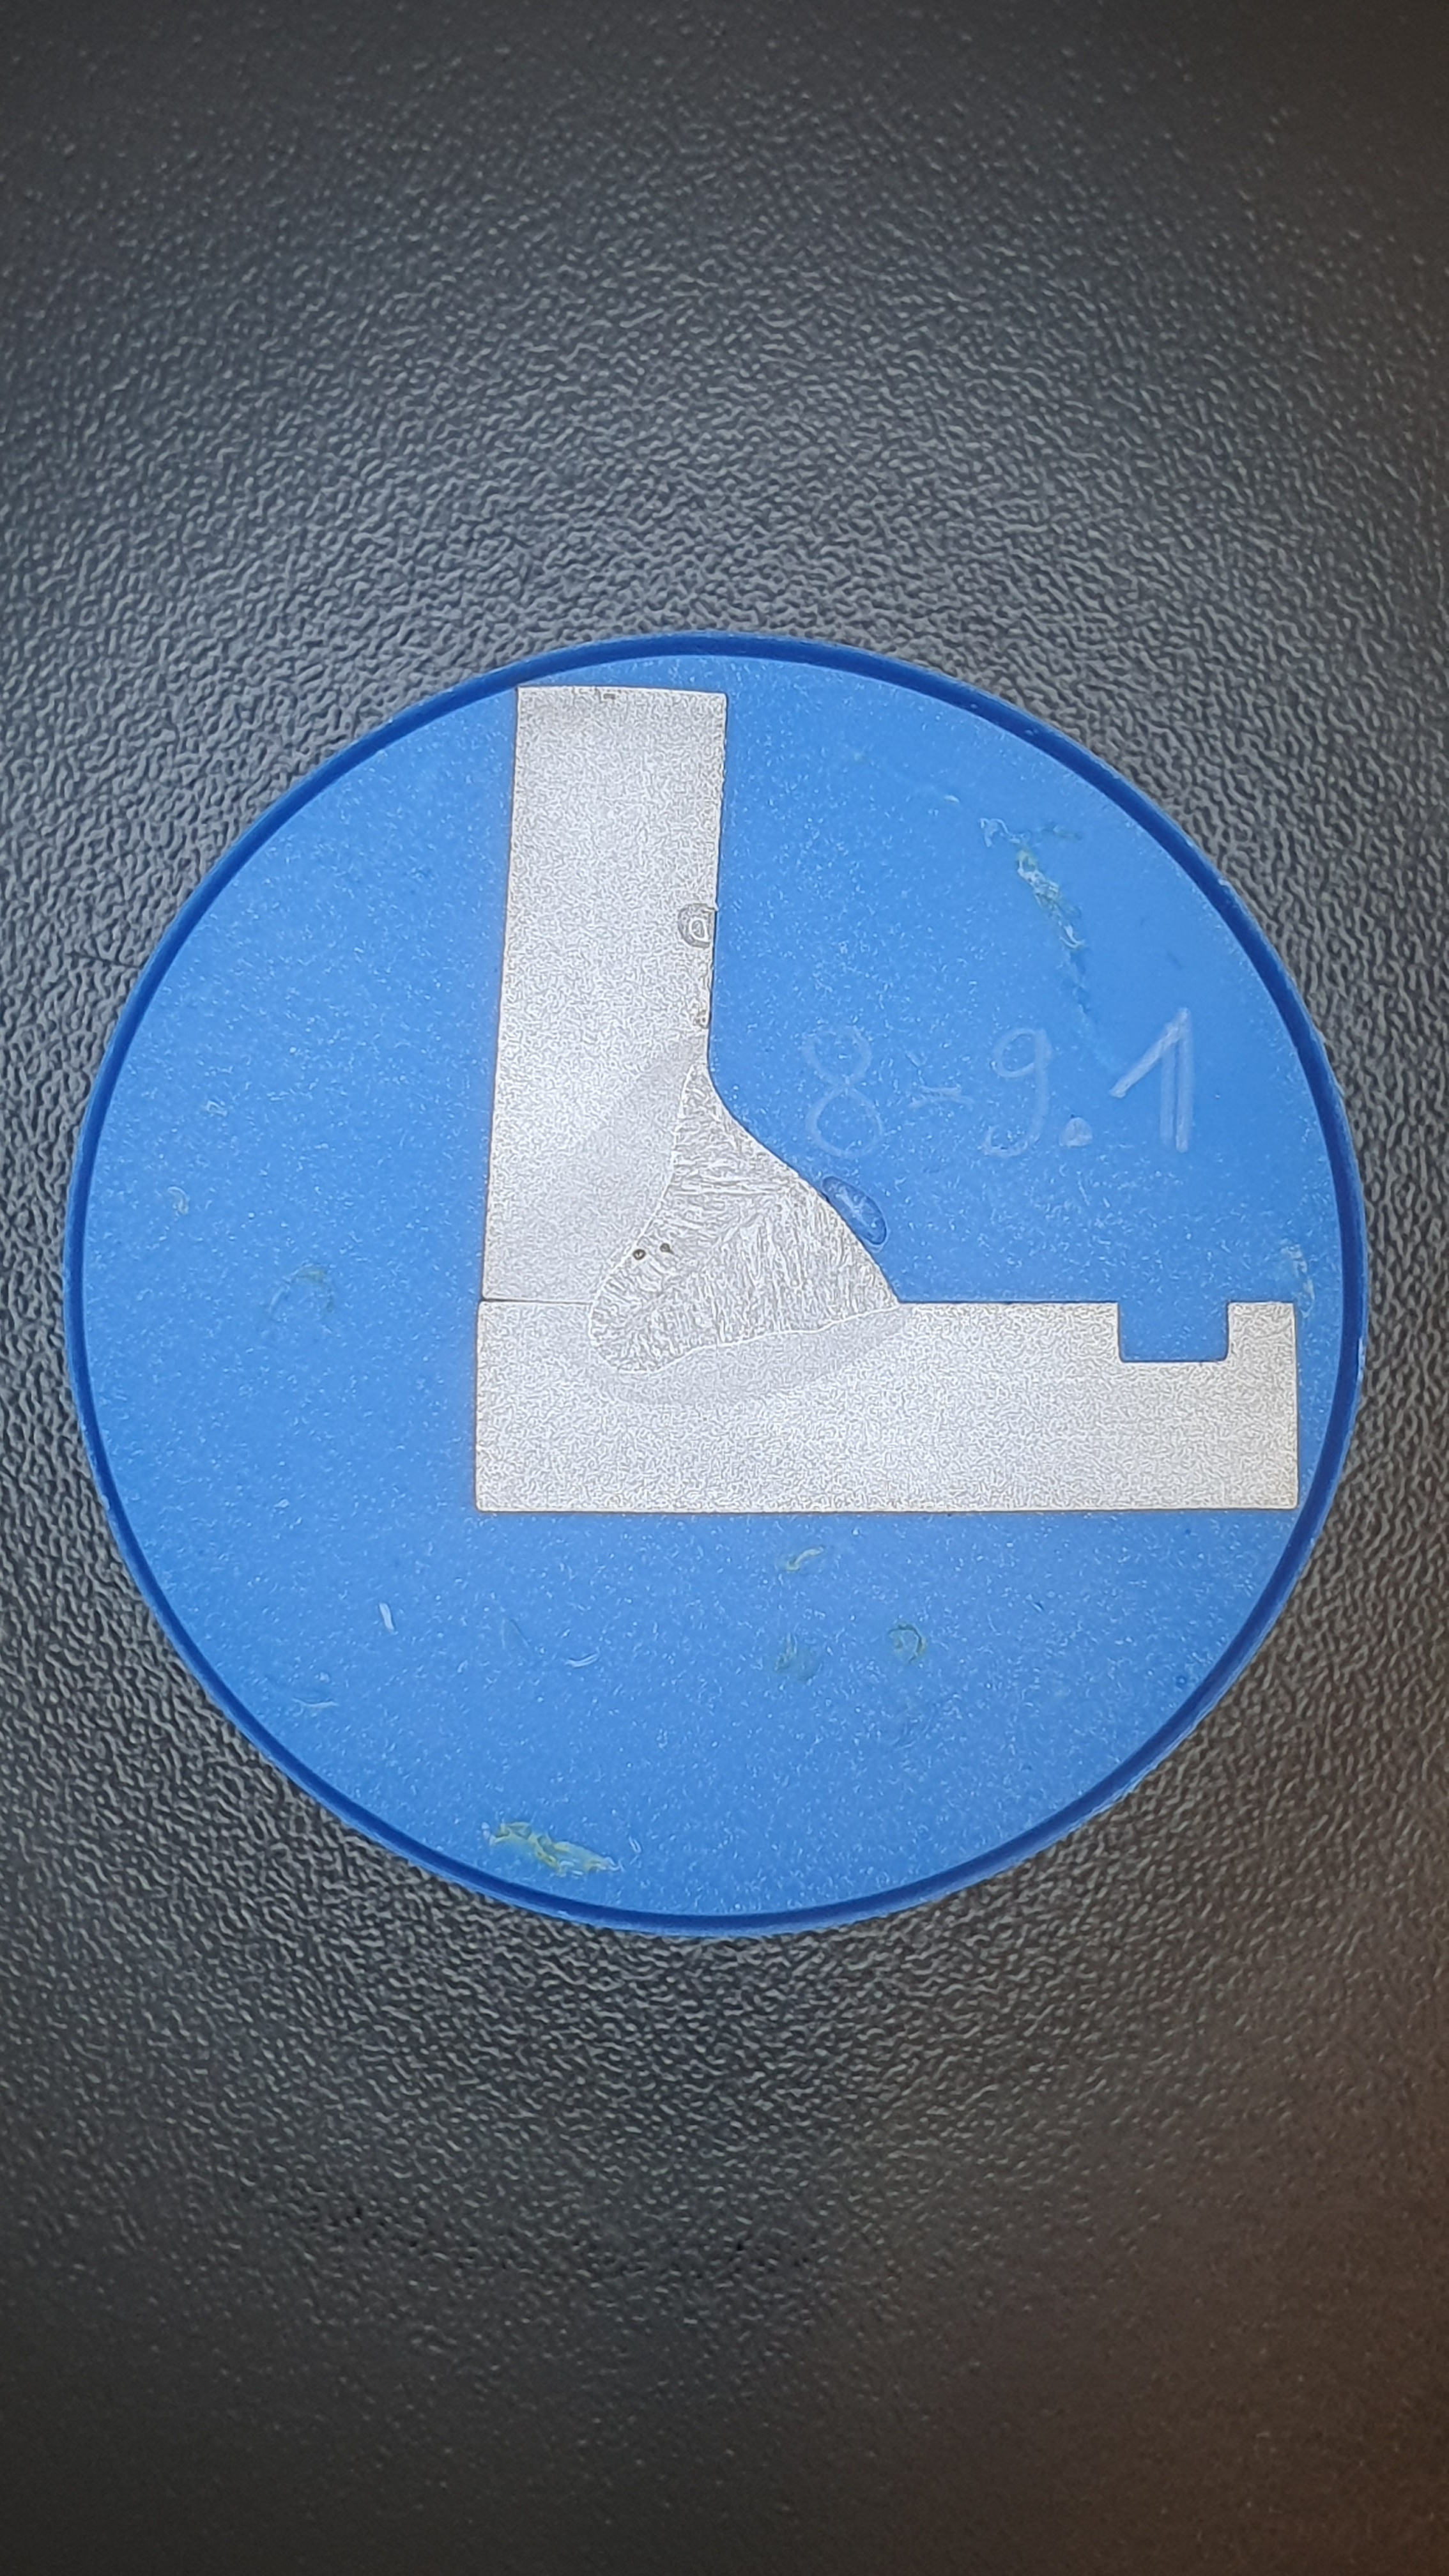Fusion: (588, 1053, 898, 1372)
Hintergrund: (82, 652, 1342, 1913)
Metall: (475, 685, 1299, 1514)
Nebenbereich: (511, 1034, 914, 1405)
